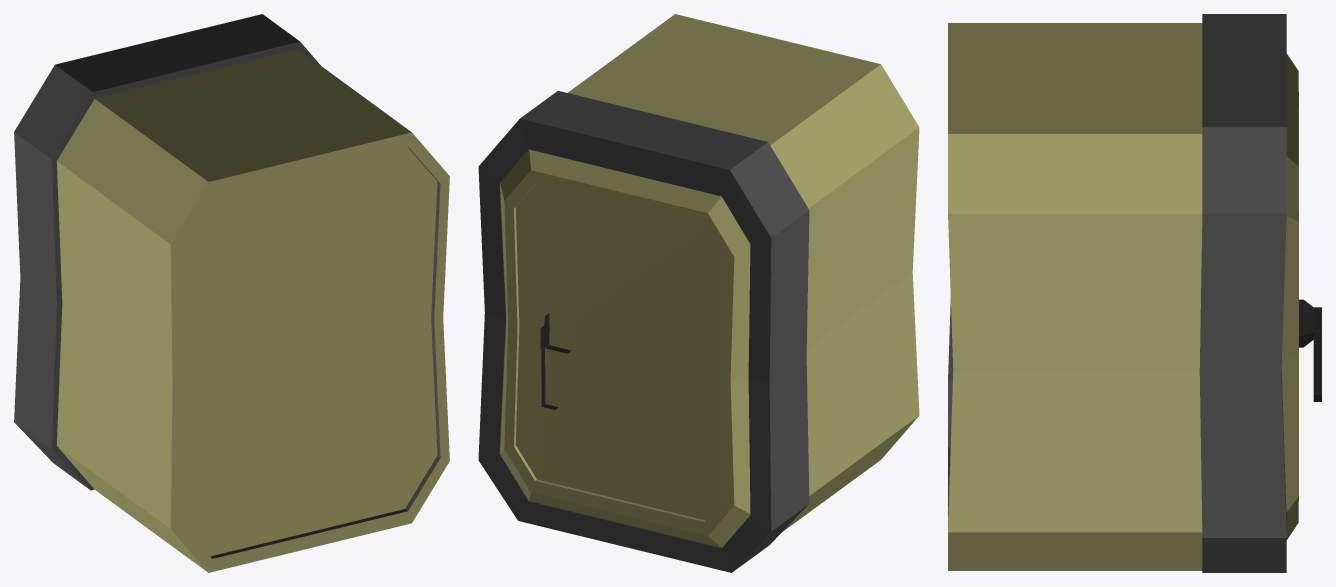
Rendered from Safe Vault.fbx.
3 views of the same model, side by side, from view 1: azimuth 30°, elevation 25°; view 2: azimuth 150°, elevation 25°; view 3: azimuth 270°, elevation 25° (orthographic). The views are drawn at different scales.
Parts seen in each view (by area): view 1: Node 0; view 2: Node 0, Node 1; view 3: Node 0, Node 1.
Boxes of the visible parts, bbox=[...] form: Node 0: bbox=[14, 14, 449, 572]; Node 0: bbox=[478, 14, 919, 572]; Node 1: bbox=[500, 149, 750, 547]; Node 0: bbox=[948, 14, 1286, 572]; Node 1: bbox=[1281, 53, 1321, 539].
Size of the model in its own units: 0.8575 by 1.13 by 0.8564.
